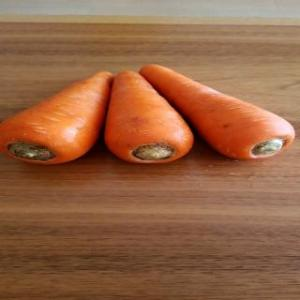carrot: (141, 64, 295, 160), (1, 70, 113, 162), (102, 70, 192, 164)
